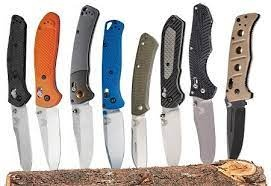knife: (224, 11, 262, 160), (66, 5, 100, 169), (188, 2, 221, 163), (33, 11, 65, 170), (126, 31, 159, 168), (159, 13, 188, 166), (5, 14, 32, 171), (101, 18, 126, 168)
